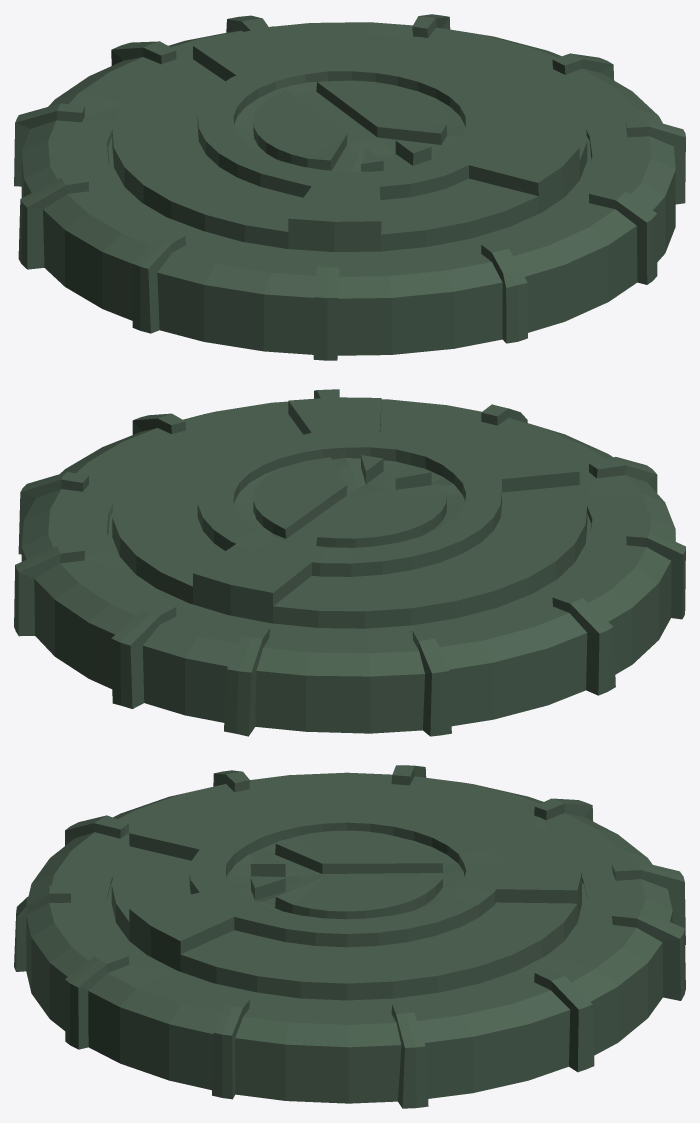
Rendered from Landmine.fbx.
The picture shows the model from 3 angles, top to bottom: view 1: azimuth 30°, elevation 25°; view 2: azimuth 150°, elevation 25°; view 3: azimuth 270°, elevation 25°; orthographic projection.
Parts seen in each view (by area): view 1: 円; view 2: 円; view 3: 円.
Part boxes in pixels (bbox=[...]): 円: bbox=[14, 14, 685, 360]; 円: bbox=[14, 389, 685, 736]; 円: bbox=[14, 765, 685, 1108].
Size of the model in its own units: 207 by 33.43 by 208.
